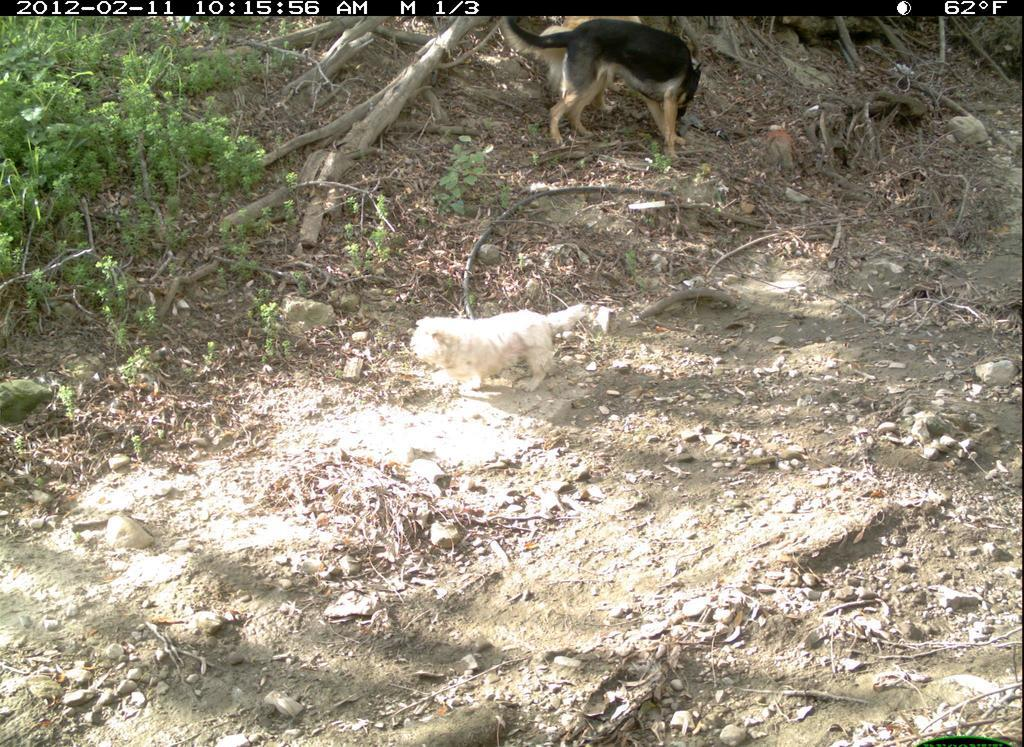dog: (500, 16, 739, 164), (401, 289, 602, 376)
